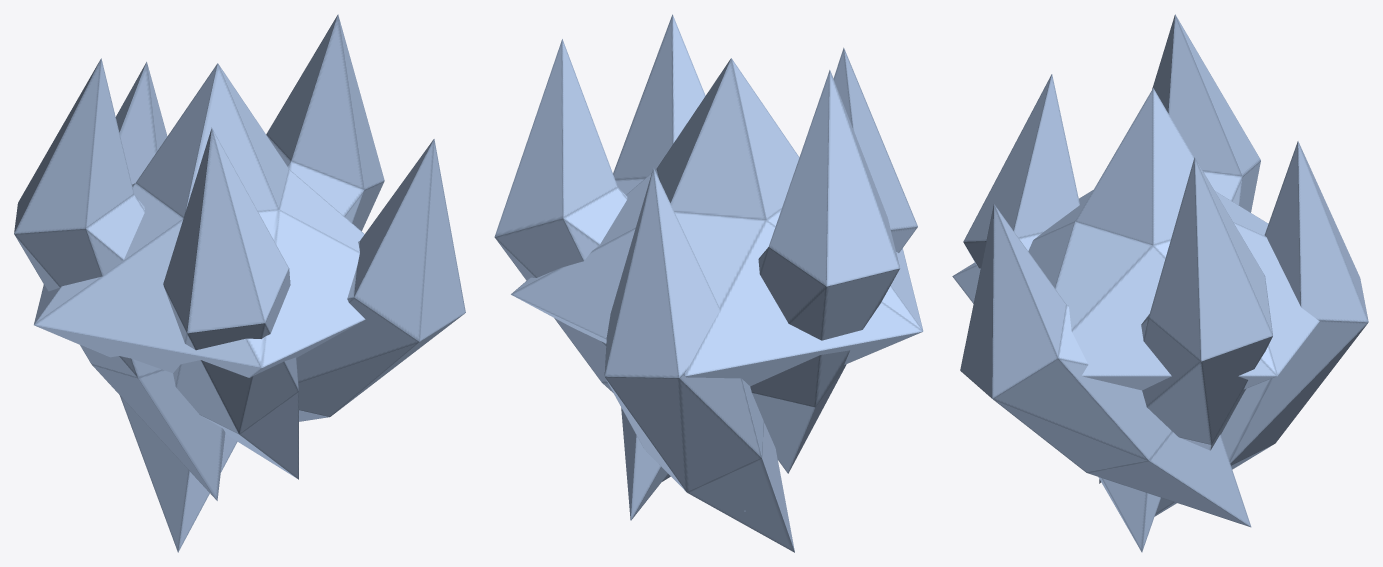
Rendered from Crystal_02_03.fbx.
The picture shows the model from 3 angles, left to right: view 1: azimuth 30°, elevation 25°; view 2: azimuth 150°, elevation 25°; view 3: azimuth 270°, elevation 25°; orthographic projection. The views are drawn at different scales.
Parts seen in each view (by area): view 1: Crystal_02.002; view 2: Crystal_02.002; view 3: Crystal_02.002.
Part boxes in pixels (bbox=[...]): Crystal_02.002: bbox=[14, 14, 465, 552]; Crystal_02.002: bbox=[494, 14, 923, 552]; Crystal_02.002: bbox=[952, 14, 1368, 552].
Size of the model in its own units: 469 by 588 by 453.
Materials: 1 (1 with a texture image).
